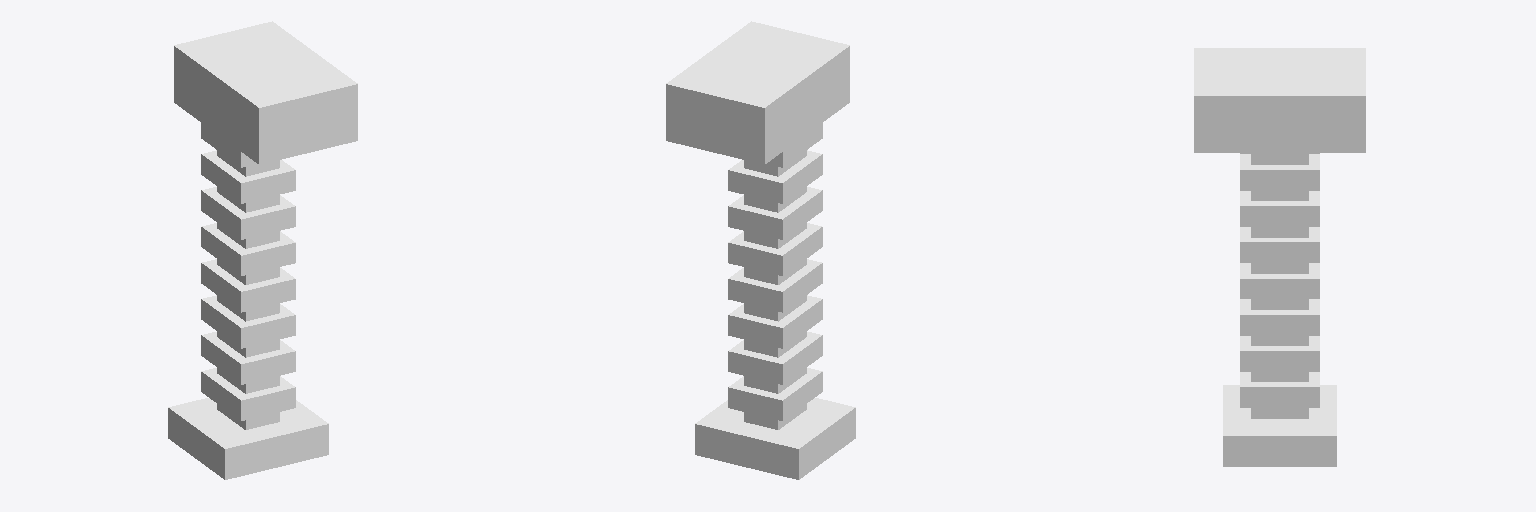
Rendered from big_robo_leg.obj.
The picture shows the model from 3 angles: view 1: azimuth 30°, elevation 25°; view 2: azimuth 150°, elevation 25°; view 3: azimuth 270°, elevation 25°; orthographic projection.
Visible parts, largest first — view 1: object 1; view 2: object 1; view 3: object 1.
Boxes of the visible parts, <box> form: object 1: <box>168,21,357,479</box>; object 1: <box>666,21,855,479</box>; object 1: <box>1194,48,1365,466</box>.
Size of the model in its own units: 2.4 by 7.3 by 3.